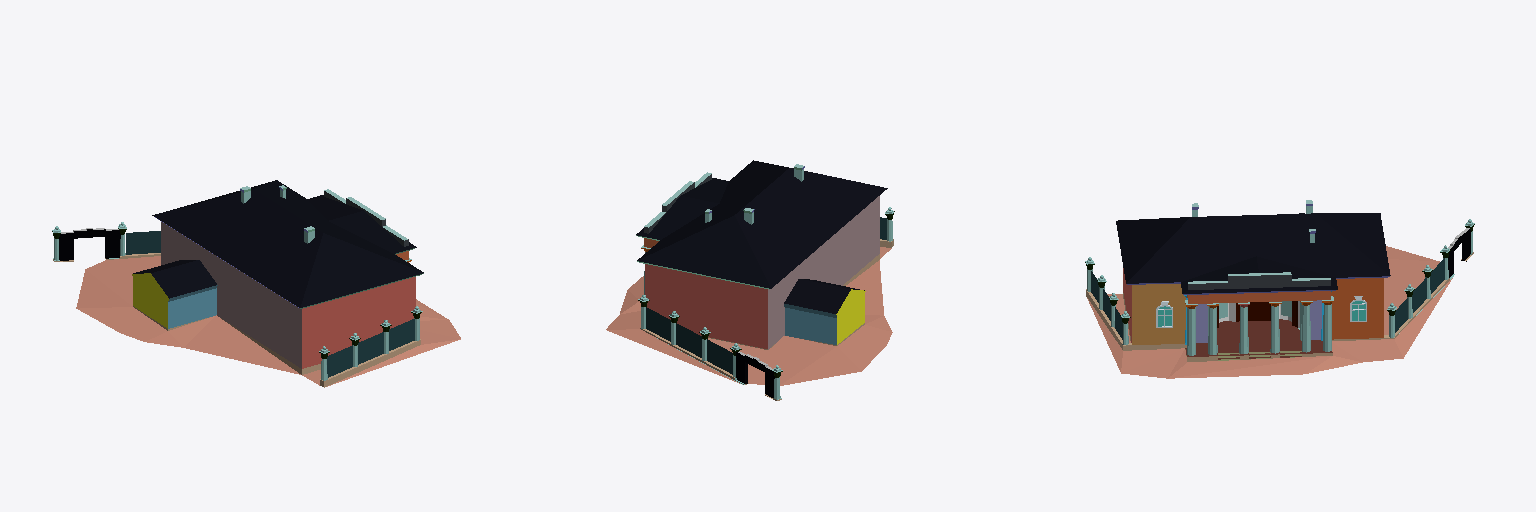
File: GuardHouse.obj
3 views of the same model, side by side, from view 1: azimuth 30°, elevation 25°; view 2: azimuth 150°, elevation 25°; view 3: azimuth 270°, elevation 25° (orthographic).
Parts seen in each view (by area): view 1: Колонна; view 2: Колонна; view 3: Колонна.
Part boxes in pixels (left/top/right/bottom): Колонна: left=52, top=180, right=460, bottom=387; Колонна: left=606, top=160, right=894, bottom=400; Колонна: left=1085, top=200, right=1474, bottom=378.
Size of the model in its own units: 30.11 by 11.77 by 37.21.